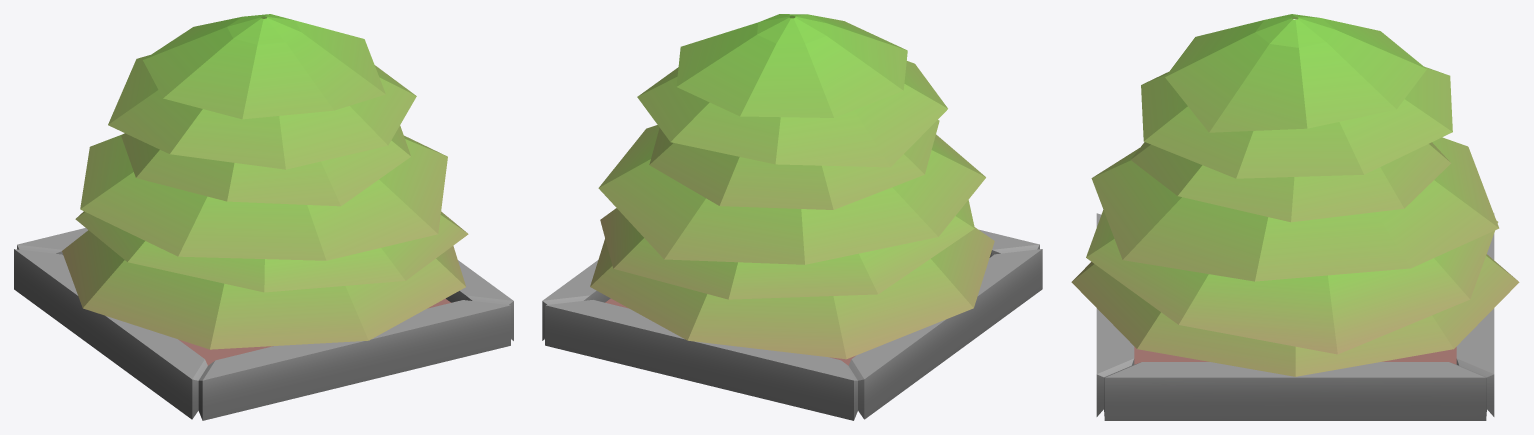
Rendered from BuschKlein.glb.
3 renders of one model, left to right at view 1: azimuth 30°, elevation 25°; view 2: azimuth 150°, elevation 25°; view 3: azimuth 270°, elevation 25°, orthographic. The views are drawn at different scales.
Visible parts, largest first — view 1: Cube.010; view 2: Cube.010; view 3: Cube.010.
Boxes of the visible parts, bbox=[...] form: Cube.010: bbox=[14, 14, 513, 420]; Cube.010: bbox=[542, 14, 1042, 420]; Cube.010: bbox=[1071, 14, 1519, 420].
Size of the model in its own units: 1.41 by 1.1 by 1.41.
Materials: 1 (1 with a texture image).
